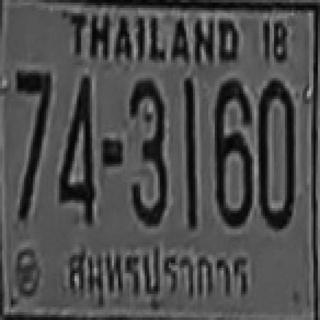N00: (256, 79, 294, 228)
N04: (57, 74, 94, 222)
N07: (15, 69, 50, 158)
P57: (58, 240, 250, 307)
